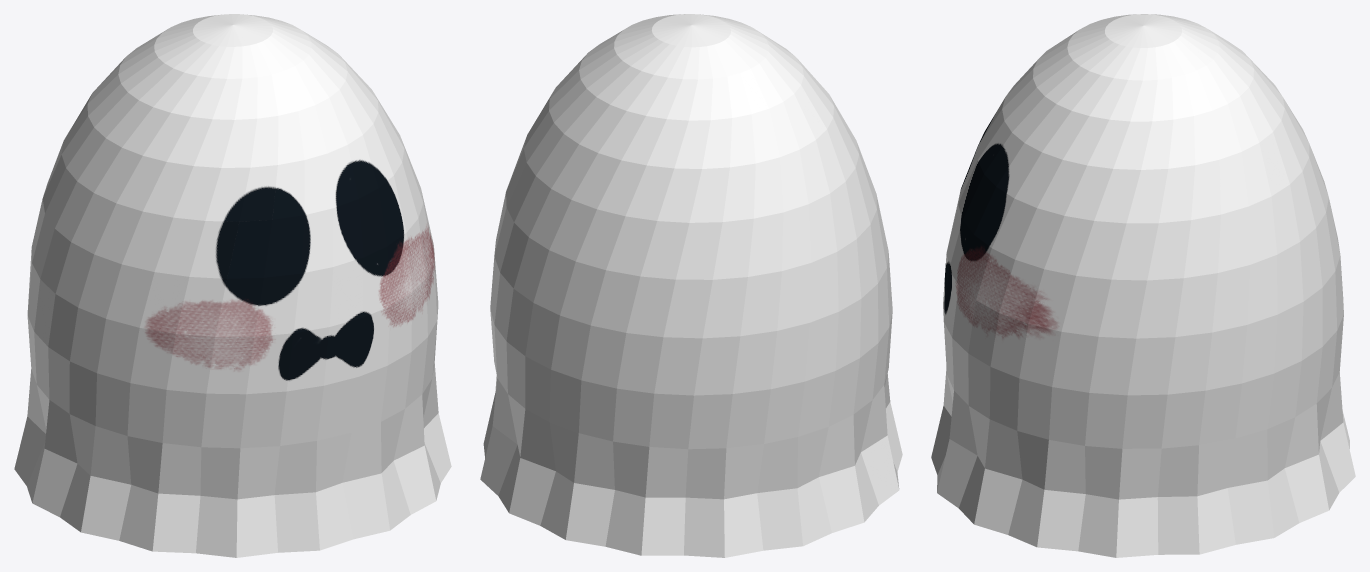
Rendered from ropaFantasma.obj.
The picture shows the model from 3 angles, left to right: view 1: azimuth 30°, elevation 25°; view 2: azimuth 150°, elevation 25°; view 3: azimuth 270°, elevation 25°; orthographic projection.
Parts seen in each view (by area): view 1: sabana; view 2: sabana; view 3: sabana.
Part boxes in pixels (<box>): sabana: <box>14,14,451,557</box>; sabana: <box>480,14,902,557</box>; sabana: <box>931,14,1355,557</box>.
Bounding box in the file's own units: 3.35 × 3.79 × 3.31.
Materials: 1 (1 with a texture image).
